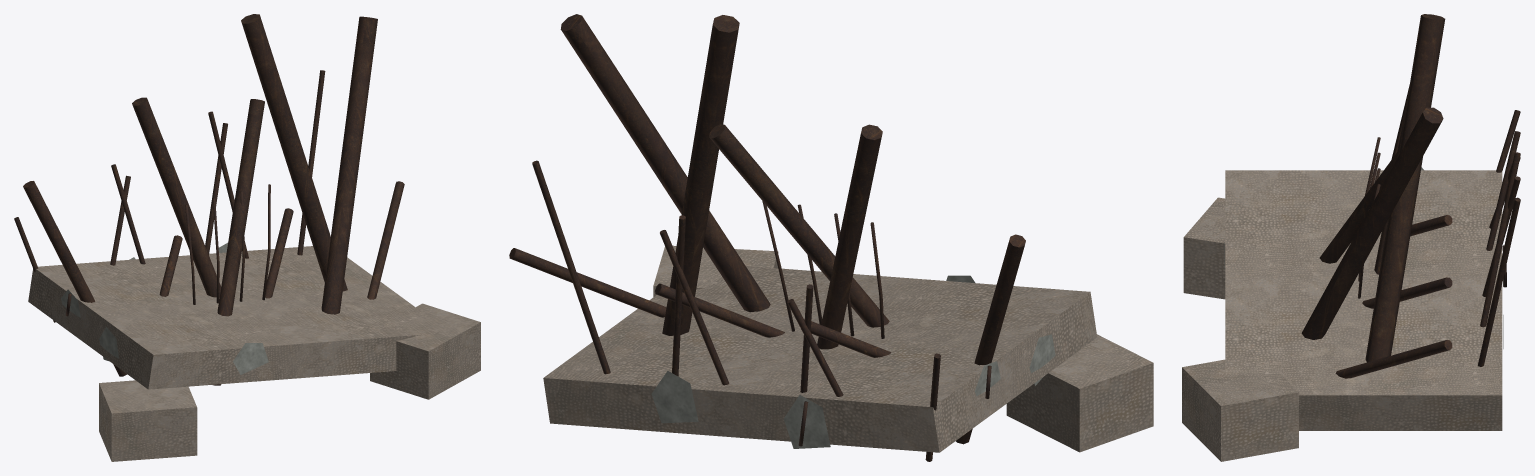
Rendered from f3_native_steelWreck.glb.
3 views of the same model, side by side, from view 1: azimuth 30°, elevation 25°; view 2: azimuth 150°, elevation 25°; view 3: azimuth 270°, elevation 25° (orthographic). The views are drawn at different scales.
Parts seen in each view (by area): view 1: f3_weathered_concrete_surface, f3_oxidized_iron_surface, f3_exposed_aggregate_surface; view 2: f3_weathered_concrete_surface, f3_oxidized_iron_surface, f3_exposed_aggregate_surface; view 3: f3_weathered_concrete_surface, f3_oxidized_iron_surface.
Boxes of the visible parts, left/top/right/bottom form: f3_weathered_concrete_surface: left=28, top=246, right=480, bottom=461; f3_oxidized_iron_surface: left=14, top=14, right=404, bottom=385; f3_exposed_aggregate_surface: left=61, top=242, right=268, bottom=374; f3_weathered_concrete_surface: left=543, top=245, right=1153, bottom=452; f3_oxidized_iron_surface: left=509, top=14, right=1025, bottom=461; f3_exposed_aggregate_surface: left=651, top=275, right=1055, bottom=448; f3_weathered_concrete_surface: left=1182, top=170, right=1502, bottom=461; f3_oxidized_iron_surface: left=1301, top=14, right=1520, bottom=378.
Size of the model in its own units: 3.39 by 2.65 by 2.2.
3 materials, 3 textured.
